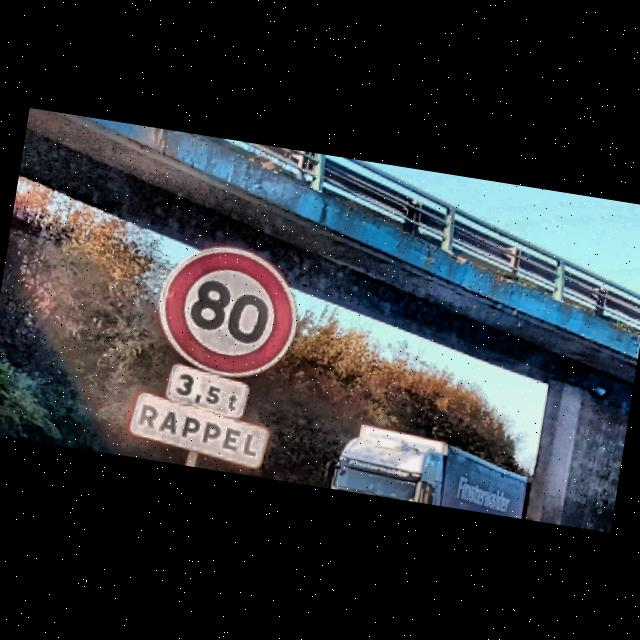speed_80: (148, 234, 310, 385)
